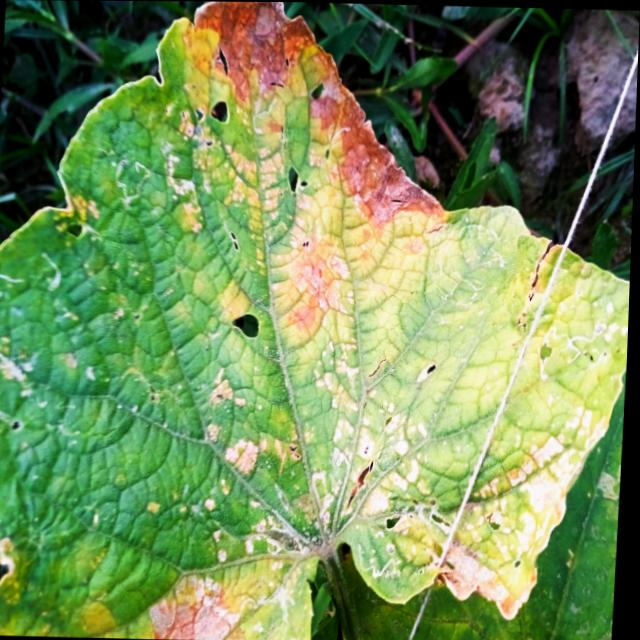Gummy-Stem-Blight: (189, 2, 450, 227), (436, 542, 536, 629), (143, 579, 247, 640)
